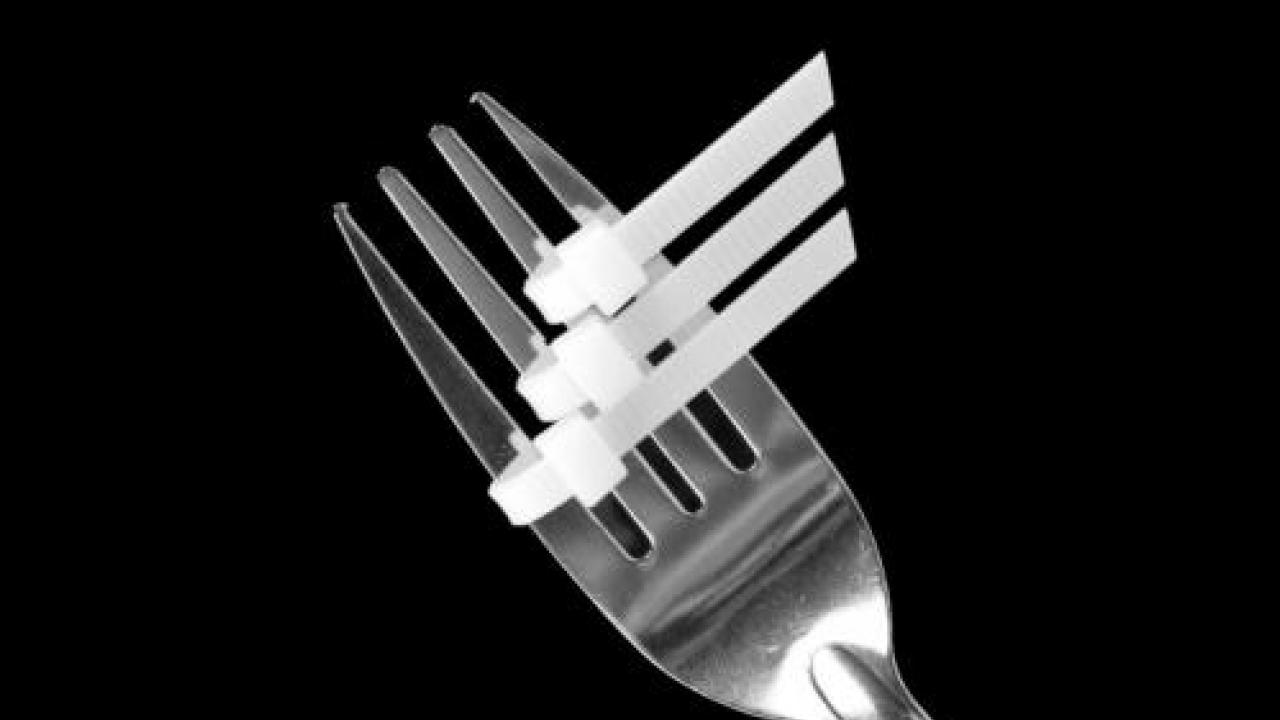fork: (328, 61, 997, 720)
